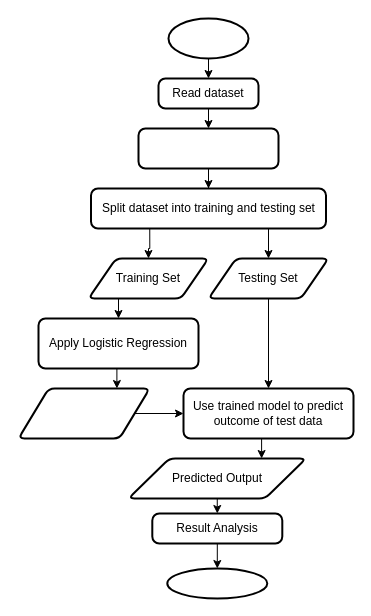
Some shapes in this 371 by 616 pixel diagram are drawn without their labels. The centre of each missing label's shape, as x and y in pixels:
Data Preprocessing: point 208,148
Start: point 208,38
Stop: point 217,583
Trained Model: point 83,413
